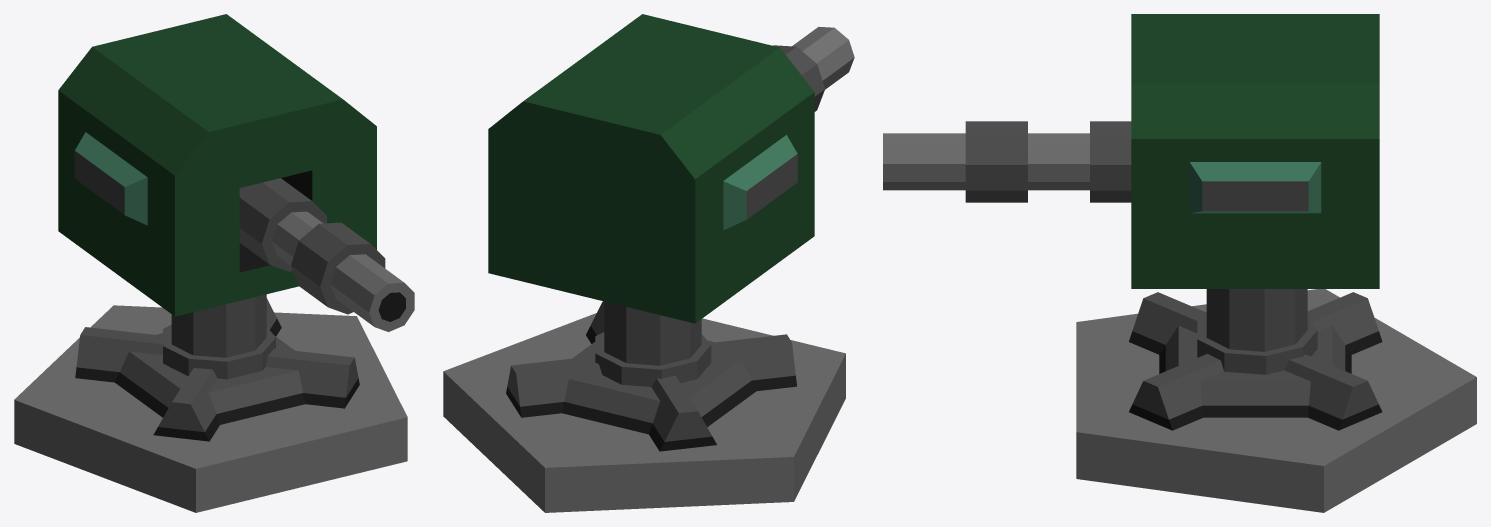
Rendered from Military_Turret.fbx.
3 views of the same model, side by side, from view 1: azimuth 30°, elevation 25°; view 2: azimuth 150°, elevation 25°; view 3: azimuth 270°, elevation 25° (orthographic). The views are drawn at different scales.
Parts seen in each view (by area): view 1: Military_Turret_Turret, Military_Turret; view 2: Military_Turret_Turret, Military_Turret; view 3: Military_Turret_Turret, Military_Turret.
Part boxes in pixels (x1,y1,x2,y2): Military_Turret_Turret: (58,14,414,357); Military_Turret: (14,298,407,512); Military_Turret_Turret: (488,14,854,365); Military_Turret: (443,301,845,512); Military_Turret_Turret: (883,14,1379,351); Military_Turret: (1076,289,1476,512).
Size of the model in its own units: 204 by 200 by 287.
